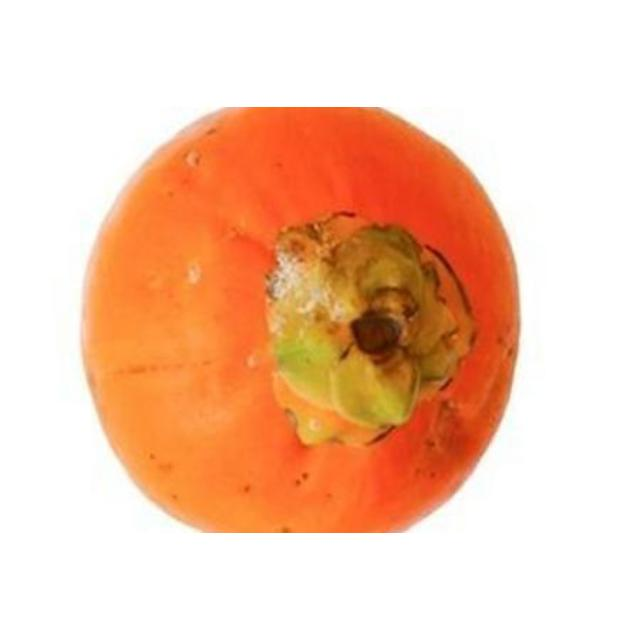good: (78, 107, 523, 532)
